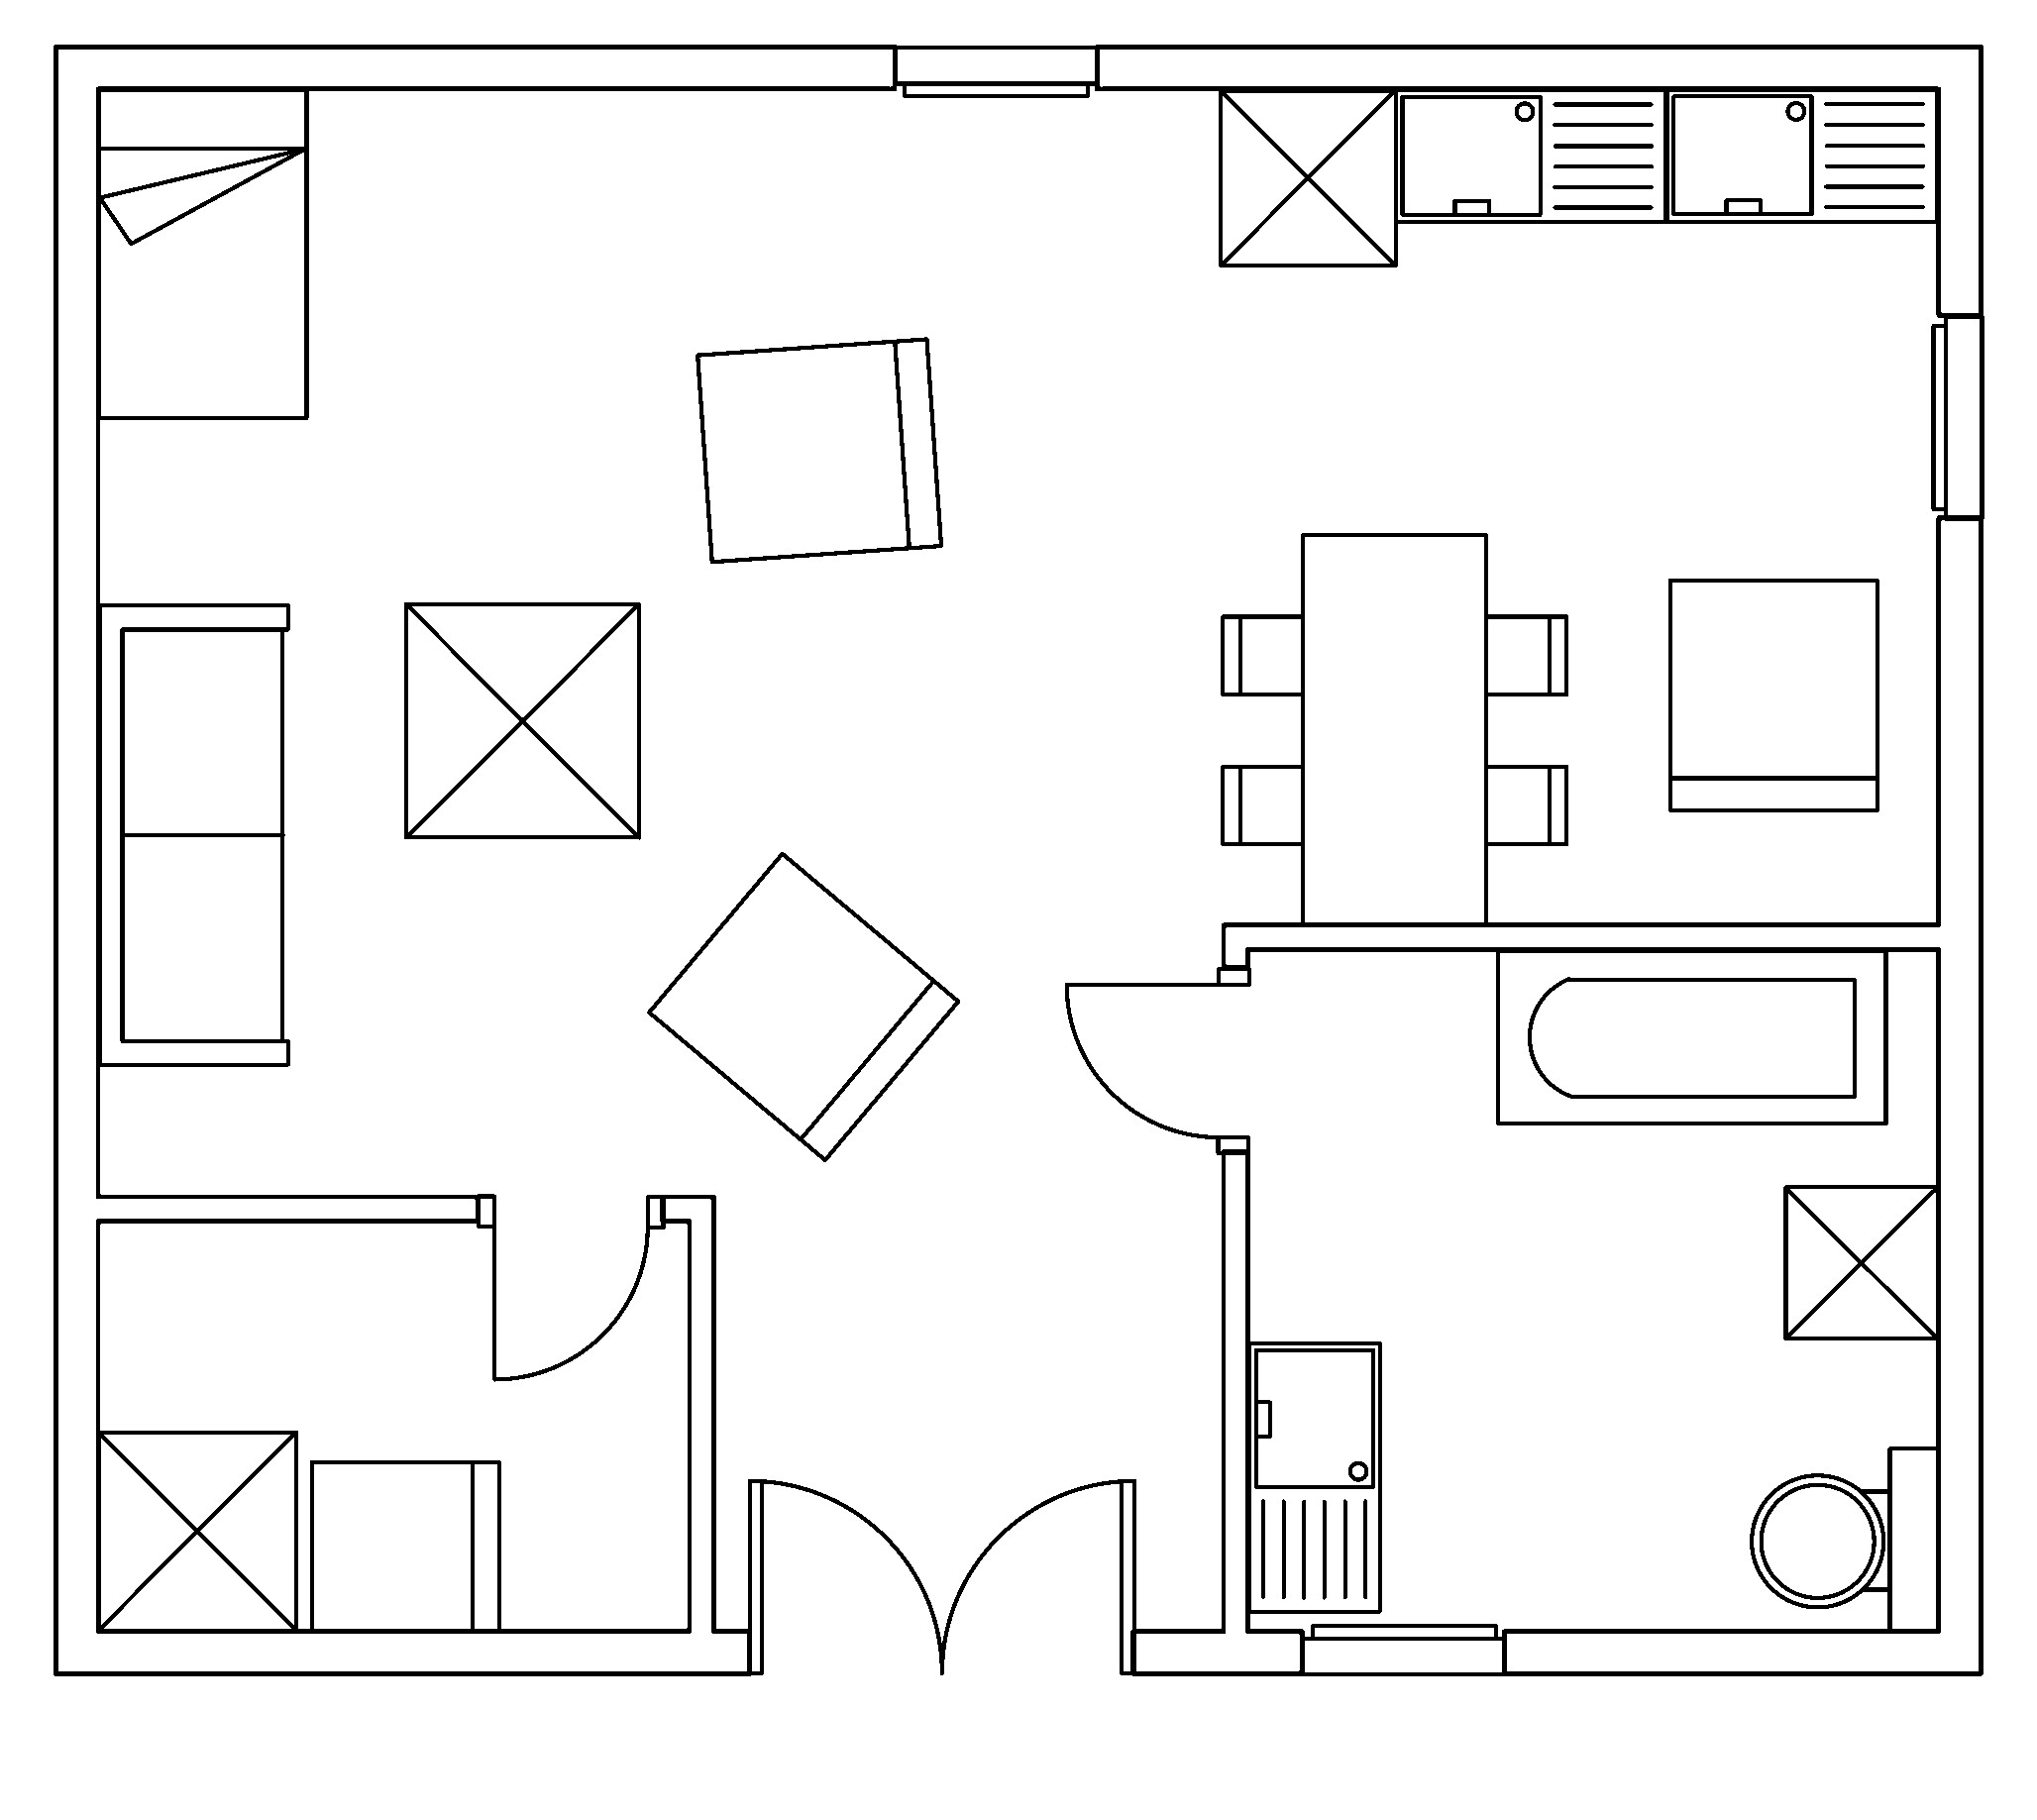bed: (95, 86, 309, 420)
coffee_table: (402, 599, 641, 840), (95, 1428, 299, 1632), (1217, 86, 1398, 267), (1781, 1182, 1940, 1340)
dining_table: (1219, 531, 1568, 926)
large_sink: (1749, 1444, 1940, 1632)
large_sofa: (97, 601, 290, 1066)
sink: (1663, 86, 1940, 223), (1245, 1339, 1382, 1614), (1393, 86, 1668, 223)
small_sofa: (644, 850, 961, 1163), (694, 336, 943, 564), (1666, 576, 1879, 812), (307, 1458, 500, 1632)
tub: (1494, 947, 1888, 1126)
